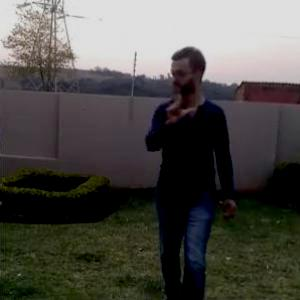land_hand: (157, 79, 192, 126)
